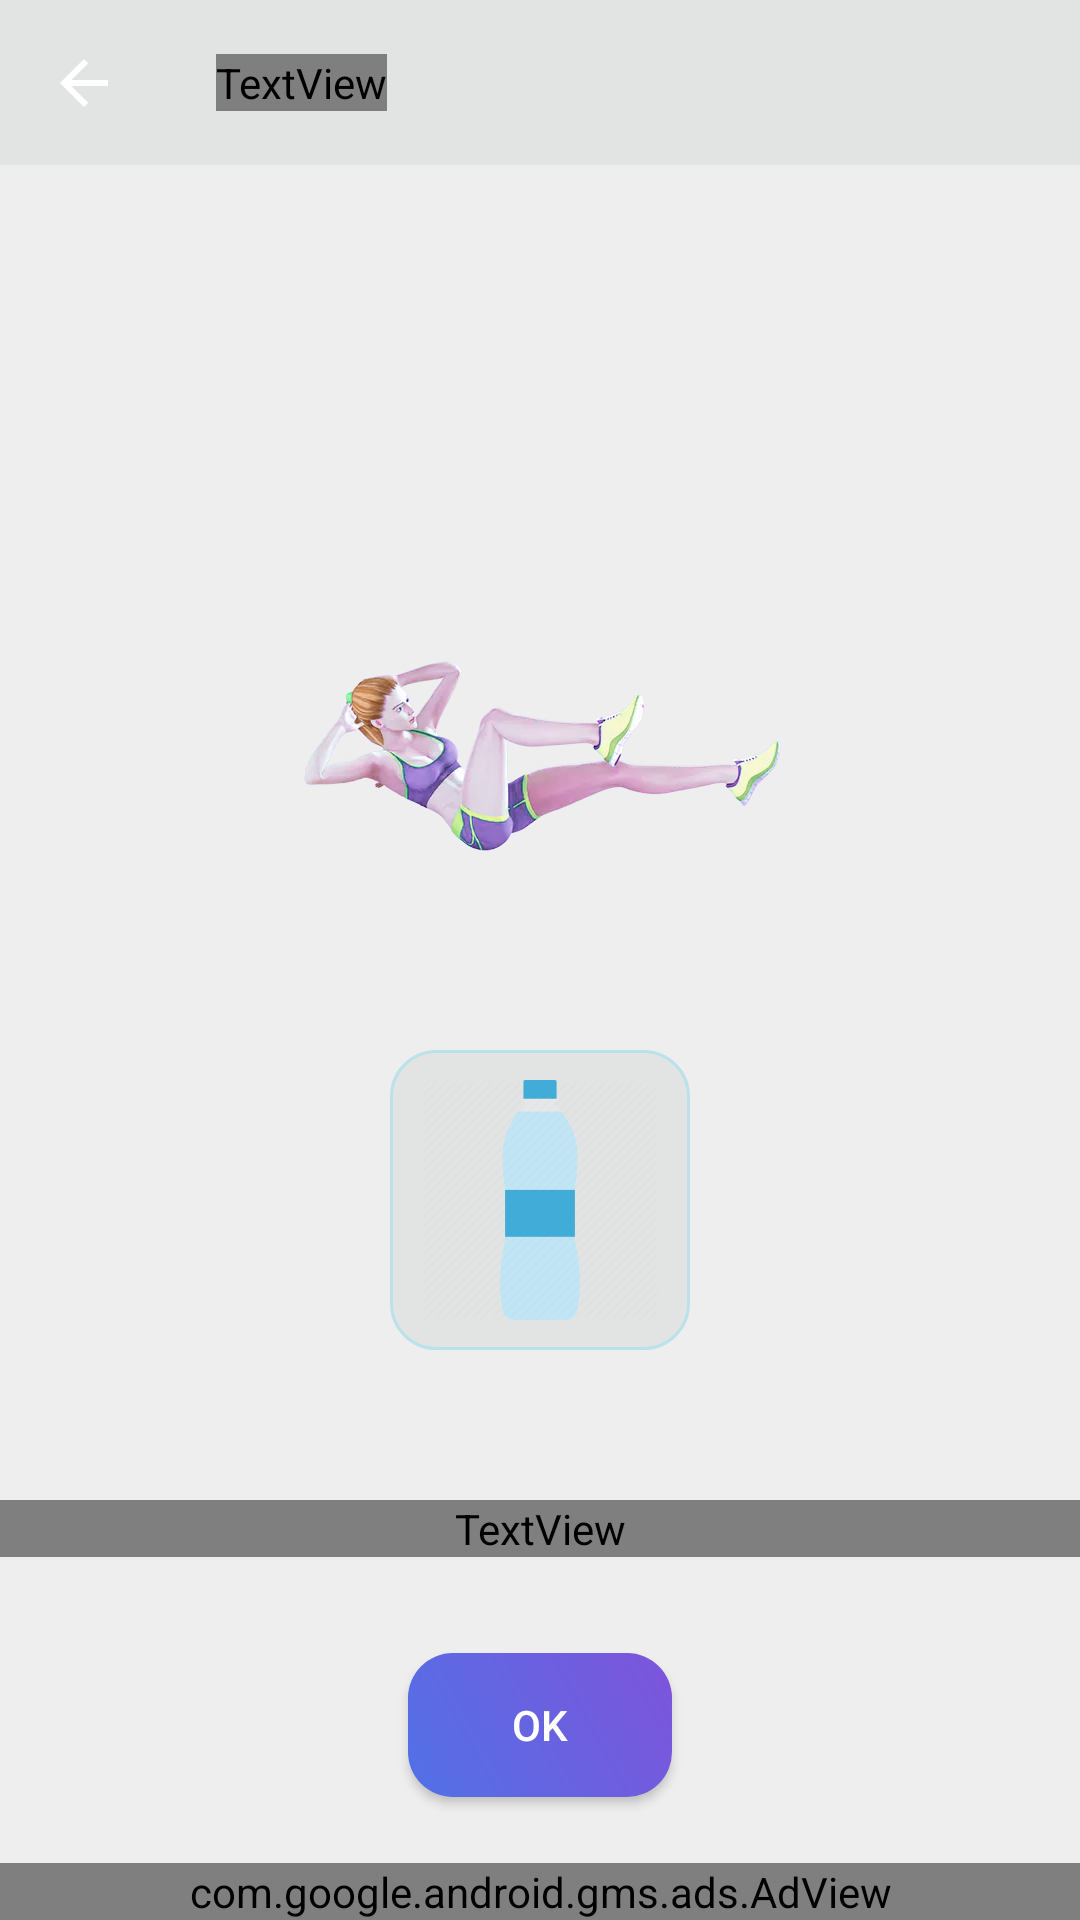

Where to tap for icons on this 1080×1920 app screen, as (x=x, y=y):
water battel: (x=540, y=1200)
